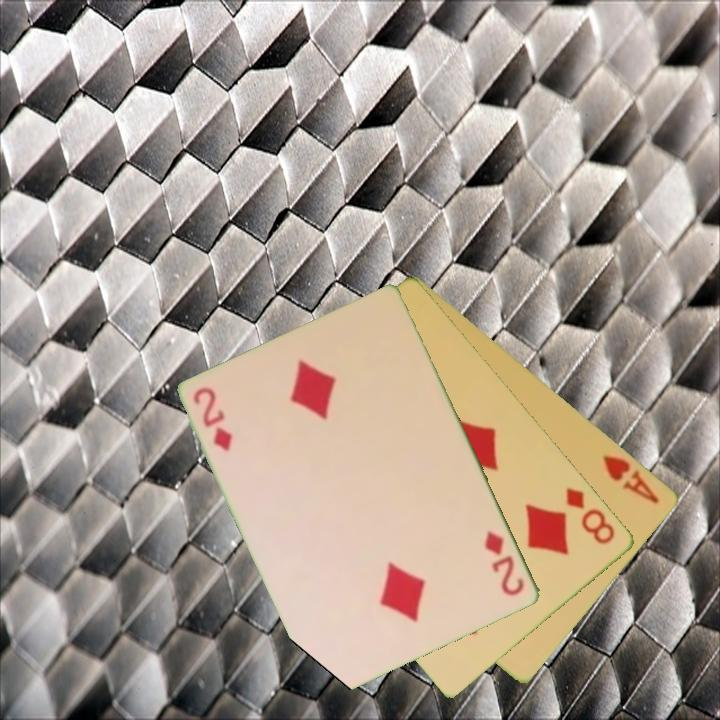2d: (481, 527, 528, 599), (190, 383, 236, 454)
8d: (563, 484, 619, 548)
Ah: (599, 451, 663, 507)
